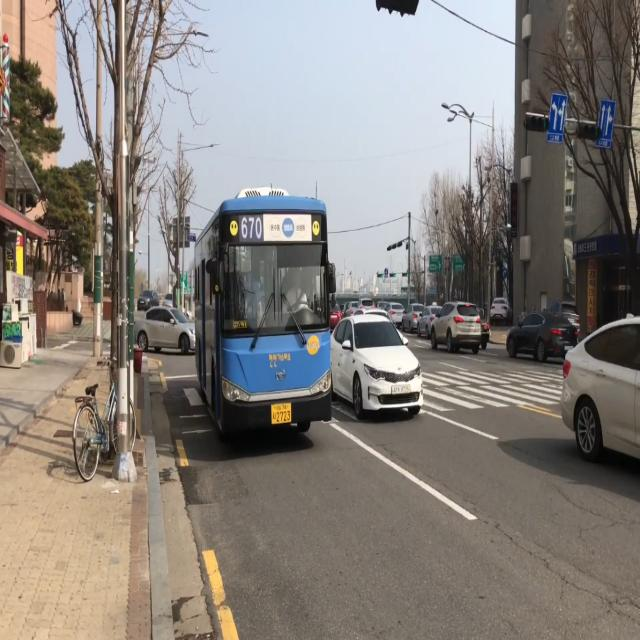bus-number: (241, 216, 262, 242)
